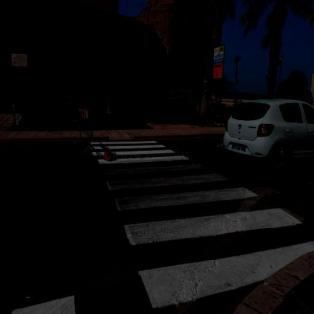Paso de Cebra: (113, 184, 307, 252), (90, 148, 191, 167)
